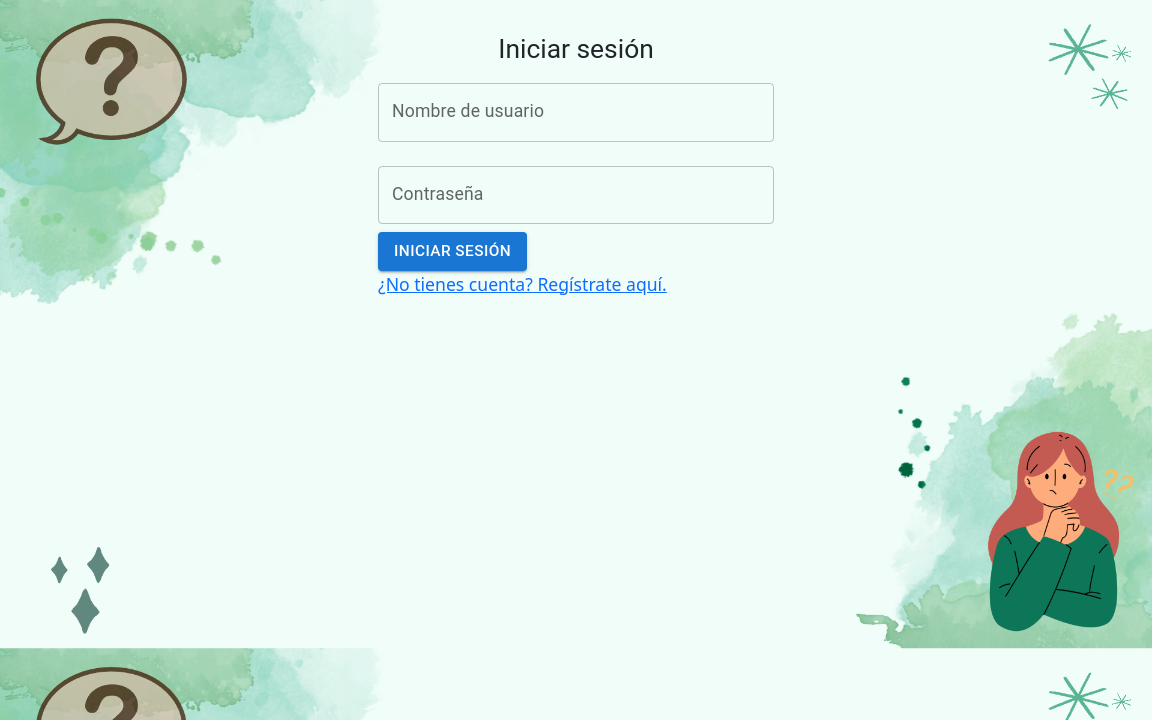
Scenario: Login component › should handle error when logging in
Note: Simulamos la entrada incorrecta de un usuario
Step 1. Type "testUserError" into the field labelled "Nombre de usuario" → coordinates (576, 112), box [378,83,774,142]
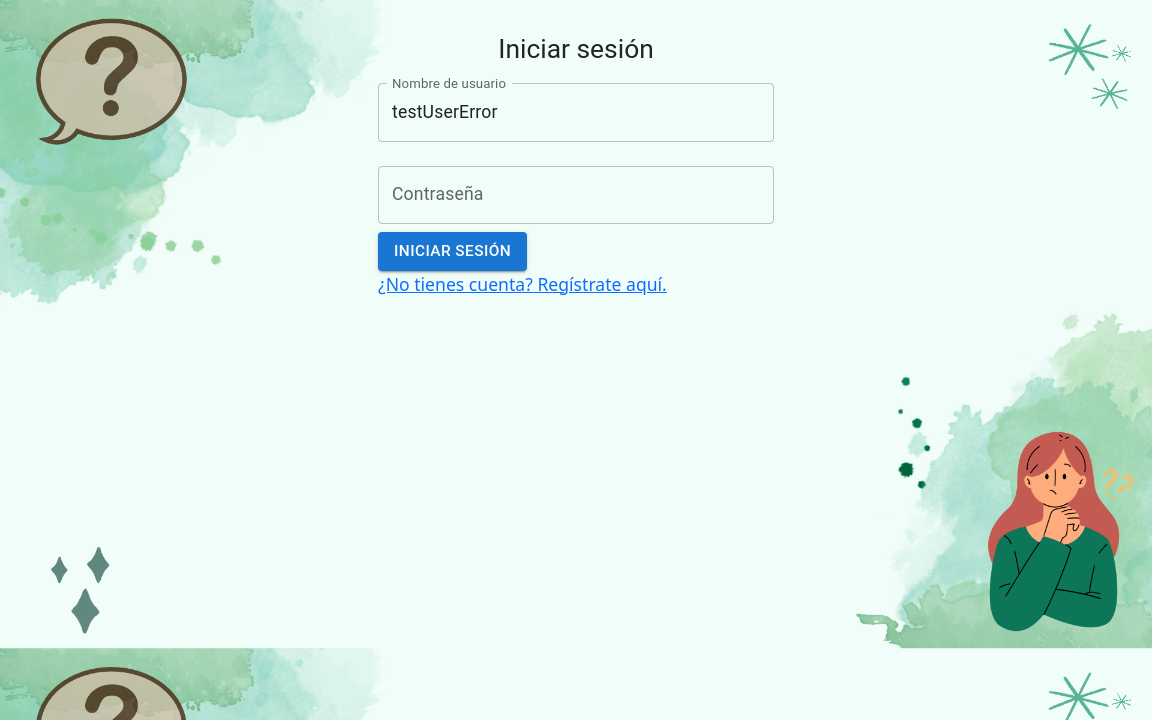
Step 2. Type "testPasswordError" into the password field labelled "Contraseña" → coordinates (576, 195), box [378,166,774,224]
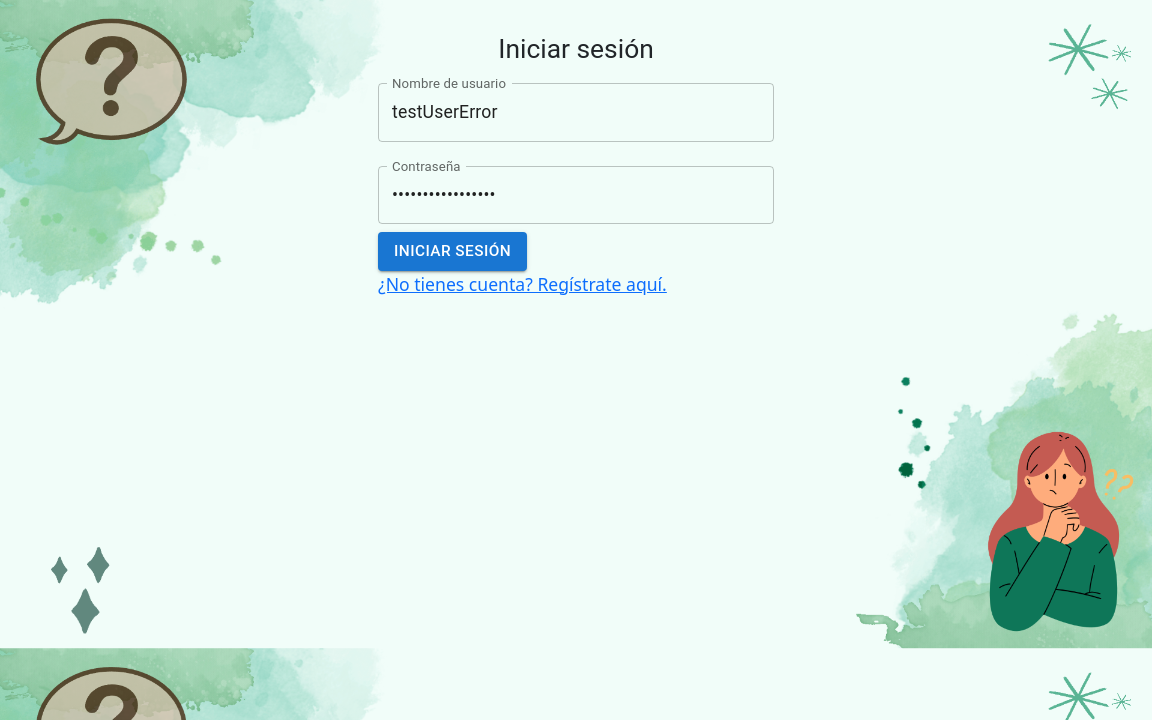
Note: Damos a Login
Step 3. Click the button "Iniciar sesión" → coordinates (453, 251), box [378,232,527,271]
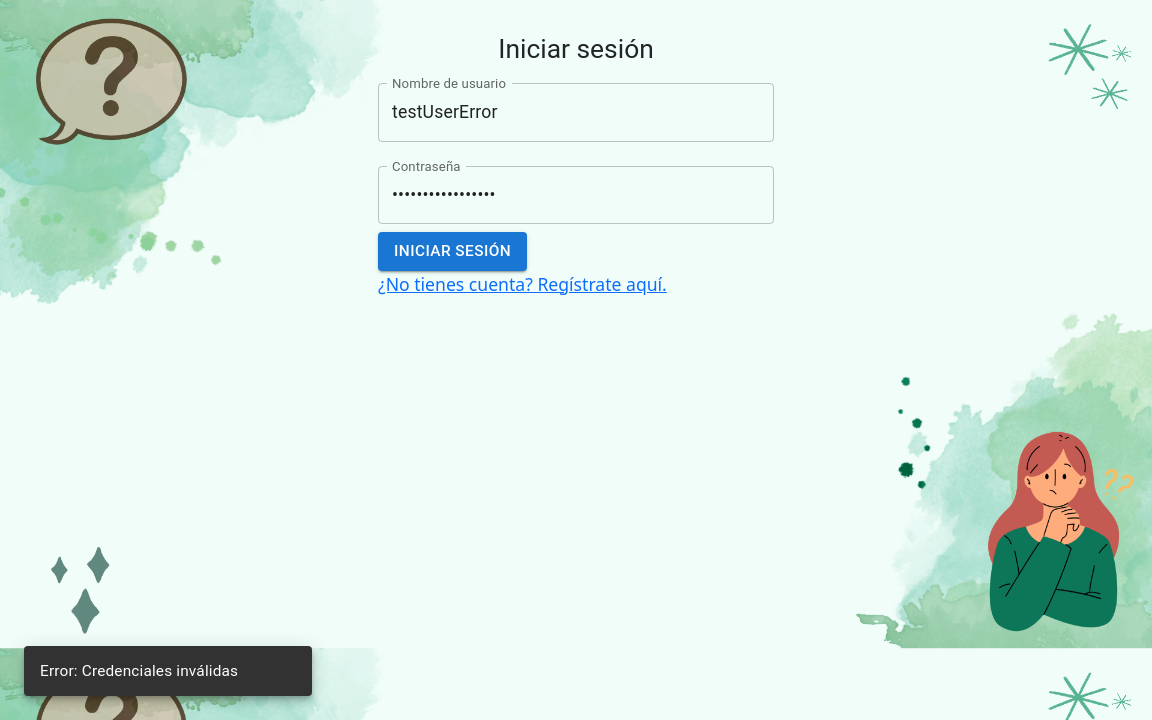
expect the text "Error: Credenciales inválidas" is shown: met, box [40,662,238,680]
